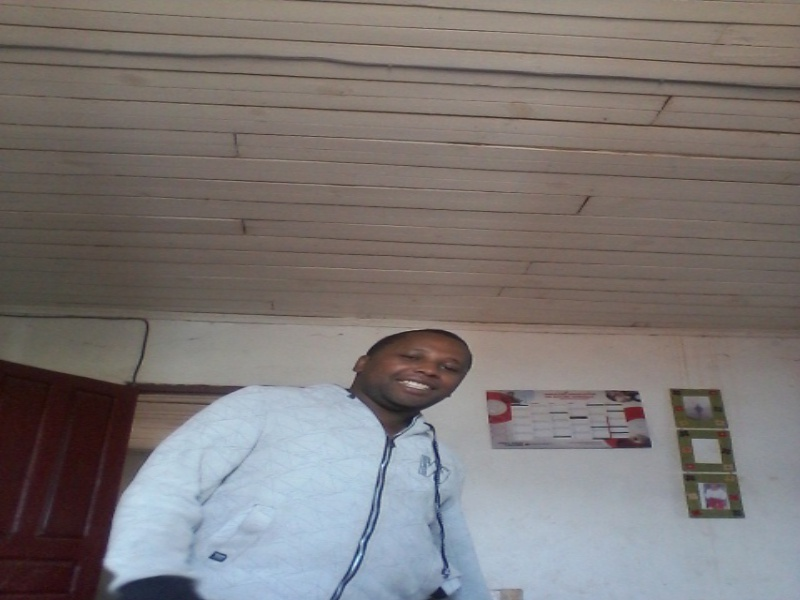TsisyArotava: (349, 313, 481, 430)
